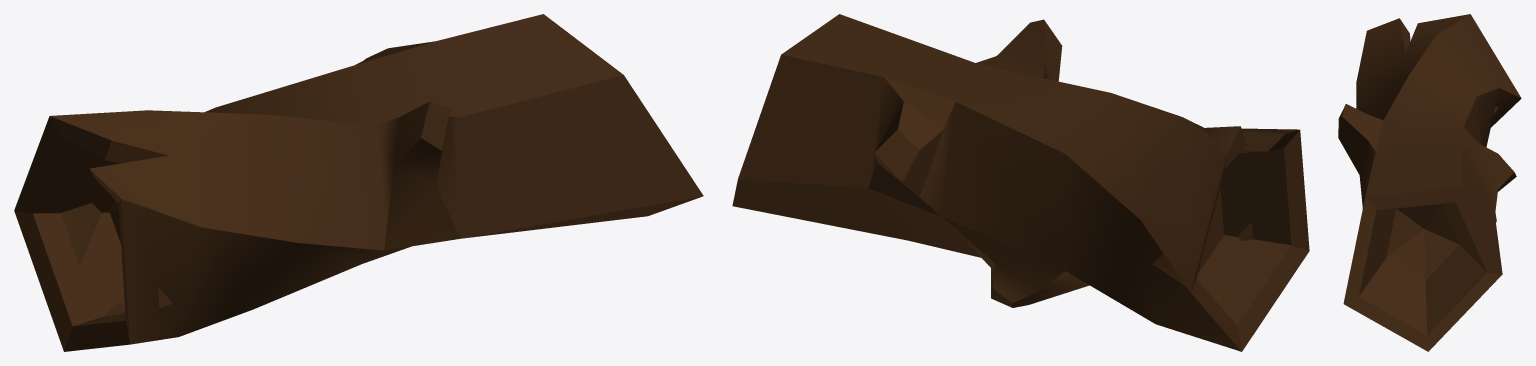
Rendered from log3.fbx.
The picture shows the model from 3 angles, left to right: view 1: azimuth 30°, elevation 25°; view 2: azimuth 150°, elevation 25°; view 3: azimuth 270°, elevation 25°; orthographic projection. The views are drawn at different scales.
Parts seen in each view (by area): view 1: log; view 2: log; view 3: log.
Boxes of the visible parts, x1,y1,x2,y2 form: log: (14,14,703,351); log: (732,14,1309,351); log: (1338,14,1521,351).
Bounding box in the file's own units: 5.45 × 2.11 × 2.18.
1 material, 1 textured.
